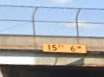1: (46, 43, 51, 51)
5: (51, 43, 57, 52)
6: (69, 44, 77, 52)
overheadsign: (41, 42, 87, 54)
